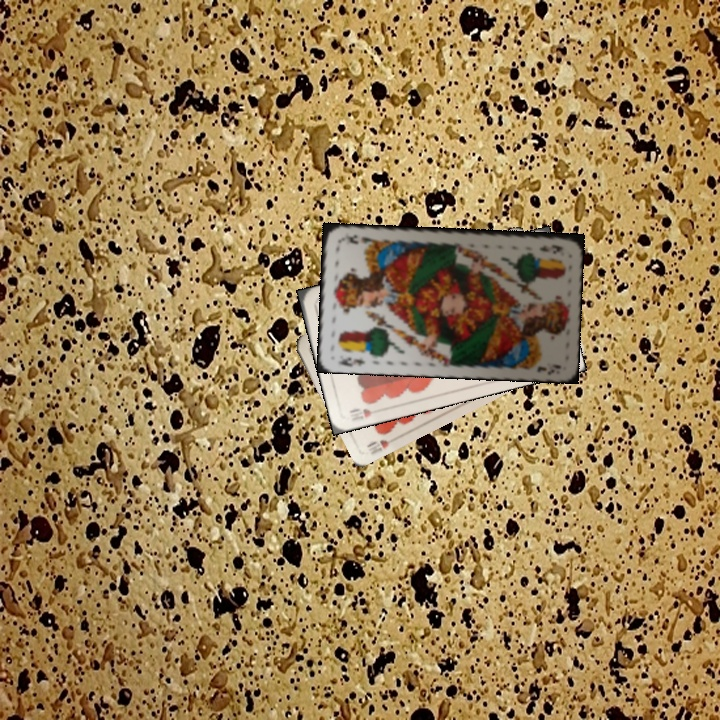EK: (334, 353, 367, 369), (535, 241, 565, 256)
H10: (363, 432, 402, 457), (345, 404, 385, 423)
